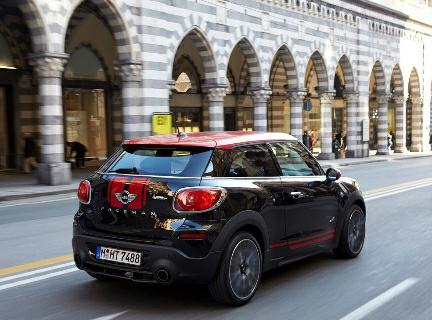MINI-JCWPACEMAN: (56, 125, 376, 292)
